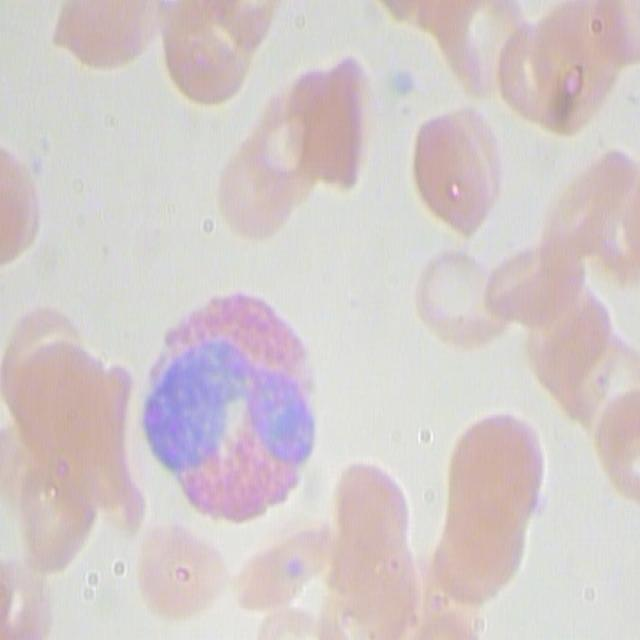RBC: (15, 342, 130, 502), (438, 417, 542, 588), (217, 106, 316, 236), (408, 100, 504, 230), (409, 239, 510, 358), (153, 0, 259, 111), (291, 59, 380, 189), (569, 156, 640, 304), (330, 463, 421, 574), (143, 514, 231, 618), (497, 251, 596, 338), (224, 528, 330, 605), (47, 0, 162, 69), (324, 559, 420, 640), (390, 559, 491, 635), (18, 472, 94, 572), (571, 332, 640, 436), (448, 2, 530, 82), (3, 549, 69, 640), (503, 30, 565, 124), (2, 139, 44, 274), (594, 392, 640, 498), (205, 0, 288, 44)
WBC: (142, 291, 320, 524)
platelets: (281, 555, 313, 586), (390, 68, 418, 100)
